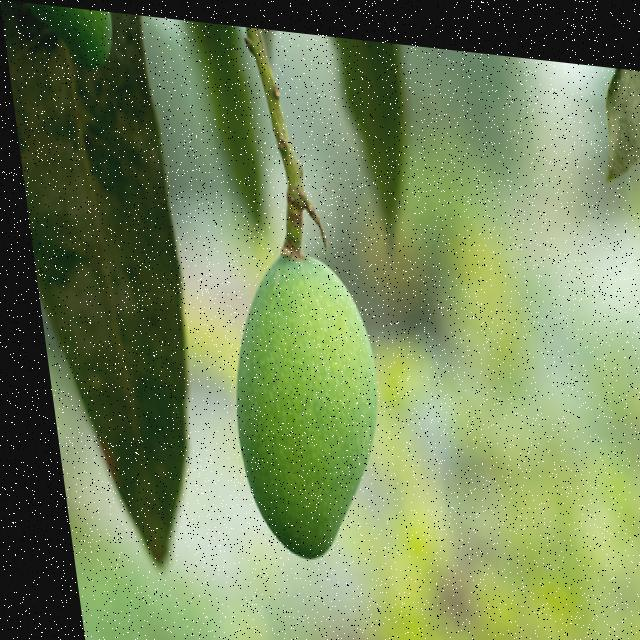raw-image: (194, 230, 389, 574)
